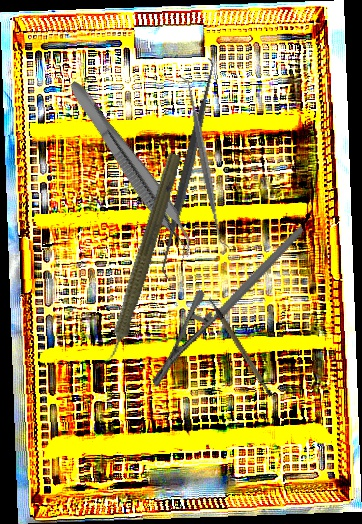Handpiece: (93, 149, 186, 377)
Needle Holder: (119, 225, 338, 389)
Scalpel Handle: (207, 288, 275, 404)
Spatula Surgical: (149, 56, 227, 282), (178, 73, 232, 252)
Tissue Forceps: (57, 77, 205, 261)
